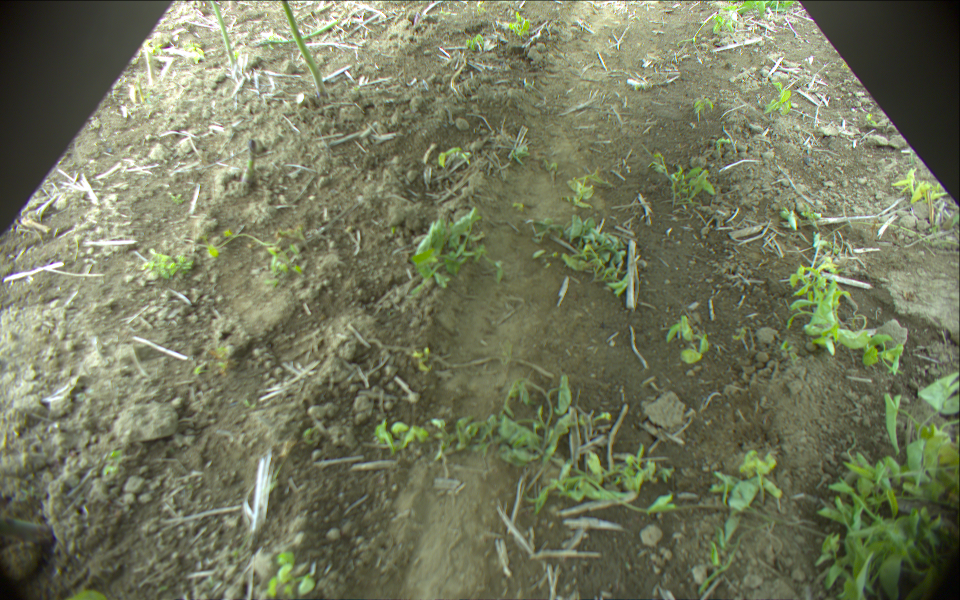aspa: (285, 1, 329, 94), (257, 16, 338, 44), (208, 1, 235, 64), (244, 137, 256, 182)
